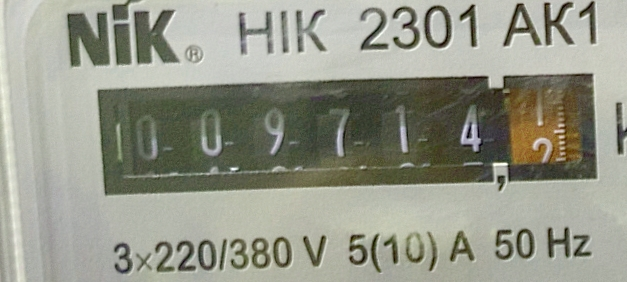0: (131, 110, 162, 165), (196, 104, 224, 159)
1: (390, 100, 415, 156), (530, 85, 547, 128)
2: (529, 133, 554, 164)
4: (455, 101, 485, 156)
7: (326, 105, 353, 159)
9: (258, 104, 289, 158)
screen: (82, 54, 615, 217)
